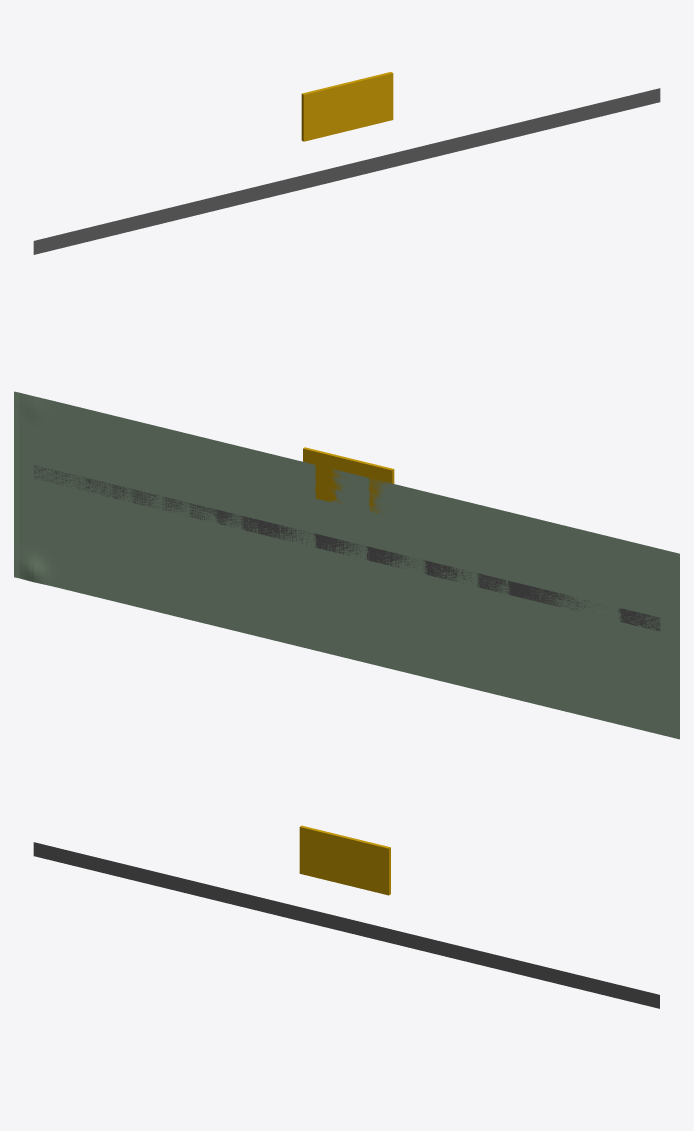
The model's file is final_airport_design.glb.
3 views of the same model, one above another, from view 1: azimuth 30°, elevation 25°; view 2: azimuth 150°, elevation 25°; view 3: azimuth 330°, elevation 25° (orthographic).
Parts seen in each view (by area): view 1: world; view 2: world; view 3: world.
Part boxes in pixels (x1,y1,x2,y2): world: [33, 72, 660, 254]; world: [14, 391, 679, 739]; world: [33, 825, 659, 1008].
Size of the model in its own units: 2977 by 850 by 22.87.
